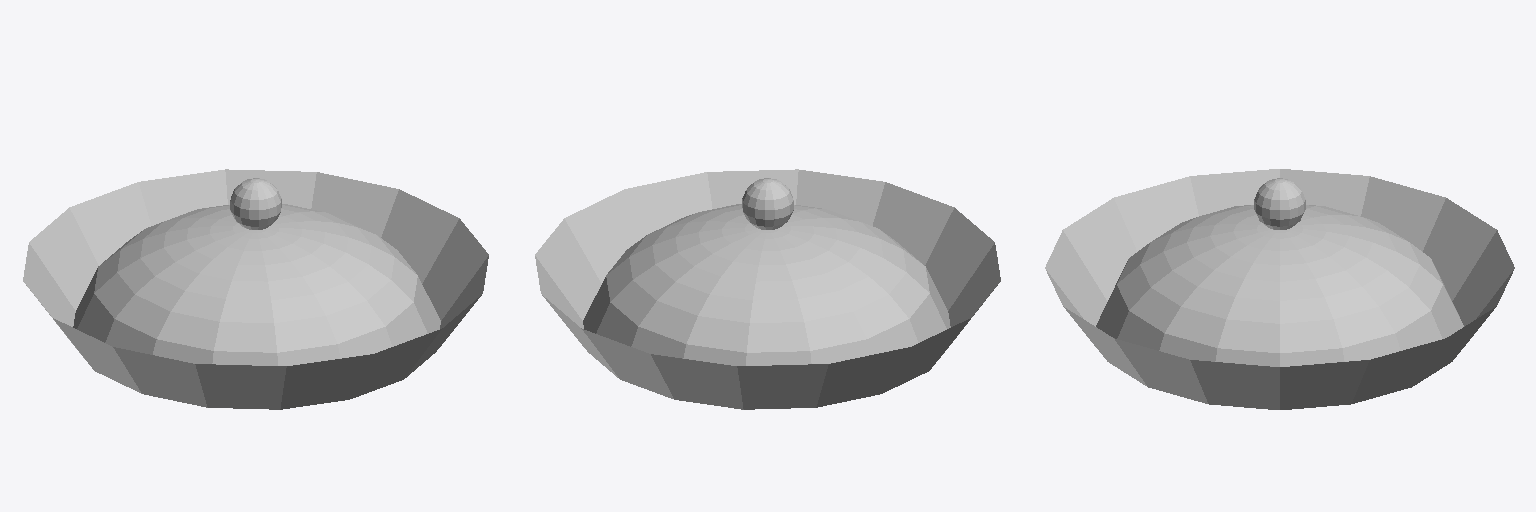
The model's file is tarohat_lowpoly.obj.
The picture shows the model from 3 angles: view 1: azimuth 30°, elevation 25°; view 2: azimuth 150°, elevation 25°; view 3: azimuth 270°, elevation 25°; orthographic projection.
Parts seen in each view (by area): view 1: Circle_Circle.001; view 2: Circle_Circle.001; view 3: Circle_Circle.001.
Part boxes in pixels (left/top/right/bottom): Circle_Circle.001: left=23, top=169, right=488, bottom=409; Circle_Circle.001: left=535, top=169, right=1000, bottom=409; Circle_Circle.001: left=1045, top=169, right=1514, bottom=409.
Bounding box in the file's own units: 10.71 × 3.8 × 10.71.